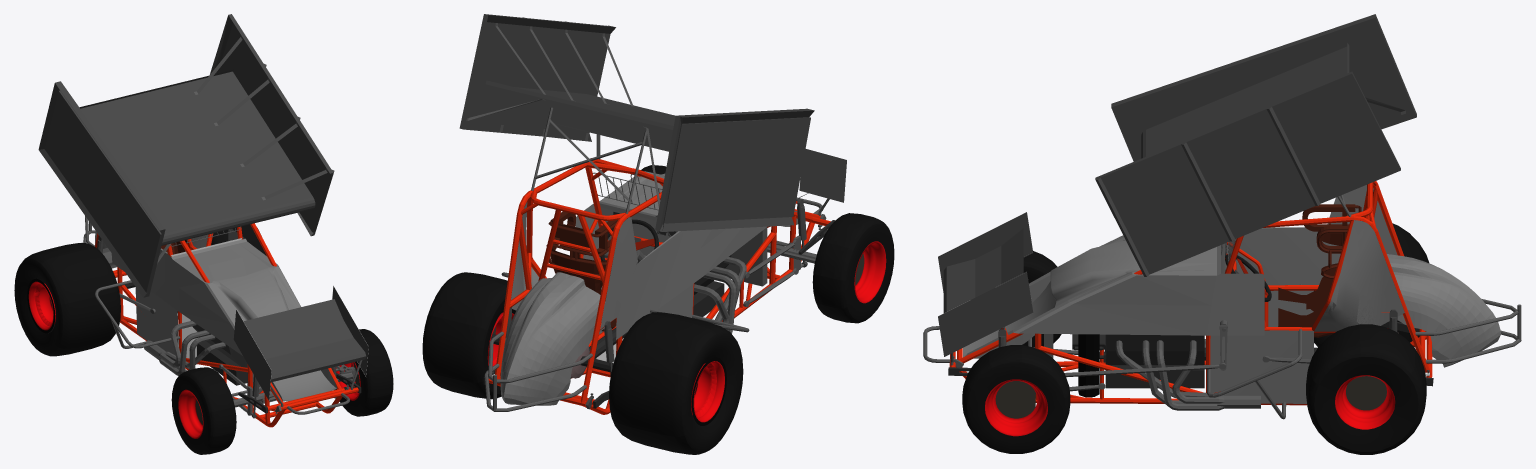
Rendered from sprintcar_default.glb.
3 renders of one model, left to right at view 1: azimuth 30°, elevation 25°; view 2: azimuth 150°, elevation 25°; view 3: azimuth 270°, elevation 25°, orthographic. The views are drawn at different scales.
Visible parts, largest first — view 1: wing_top, body, wing_top_right_sideboard, wheel_rear_right_tire, wing_front, wing_top_left, wheel_front_right_tire, chasis, wheel_front_left_tire, motor_exsaust, wing_top_left_sideboard, wing_front_right (+12 smaller); view 2: wing_top_right_sideboard, wheel_rear_right_tire, body, chasis, wing_top_left, tailtank, wheel_rear_left_tire, wheel_front_right_tire, wing_top, wing_top_left_sideboard, seat, bars (+14 smaller); view 3: body, wing_top_left_sideboard, wing_top_right, wheel_rear_left_tire, chasis, wheel_front_left_tire, tailtank, wing_top, wing_front_left, wing_front, motor_exsaust, seat (+13 smaller).
Boxes of the visible parts, box(x1,y1,x2,y2) form: wing_top: box(79, 69, 315, 245); body: box(98, 229, 336, 401); wing_top_right_sideboard: box(38, 82, 164, 297); wheel_rear_right_tire: box(14, 242, 120, 356); wing_front: box(243, 299, 366, 382); wing_top_left: box(217, 23, 331, 230); wheel_front_right_tire: box(171, 367, 236, 454); chasis: box(95, 223, 358, 427); wheel_front_left_tire: box(335, 329, 393, 416); motor_exsaust: box(144, 320, 225, 375); wing_top_left_sideboard: box(210, 14, 334, 236); wing_front_right: box(233, 309, 271, 400); wing_top_right_sideboard: box(659, 110, 814, 231); wheel_rear_right_tire: box(609, 312, 743, 454); body: box(511, 171, 797, 339); chasis: box(488, 158, 830, 414); wing_top_left: box(466, 22, 610, 132); tailtank: box(500, 272, 605, 405); wheel_rear_left_tire: box(422, 272, 515, 399); wheel_front_right_tire: box(812, 213, 894, 323); wing_top: box(485, 80, 675, 151); wing_top_left_sideboard: box(459, 14, 615, 141); seat: box(546, 211, 617, 331); bars: box(484, 197, 823, 411); body: box(963, 185, 1404, 403); wing_top_left_sideboard: box(1095, 71, 1400, 276); wing_top_right: box(1111, 15, 1416, 161); wheel_rear_left_tire: box(1306, 324, 1426, 454); chasis: box(949, 181, 1432, 405); wheel_front_left_tire: box(962, 345, 1070, 453); tailtank: box(1387, 254, 1500, 367); wing_top: box(1141, 43, 1349, 158); wing_front_left: box(938, 272, 1033, 356); wing_front: box(943, 228, 1023, 312); motor_exsaust: box(1115, 339, 1260, 410); seat: box(1278, 204, 1361, 337).
Size of the model in its own units: 1.94 by 2.63 by 3.78.
